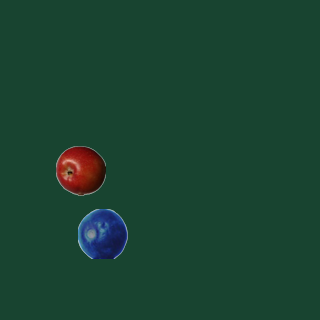Apple Braeburn: (55, 145, 105, 195)
Huckleberry: (77, 208, 127, 258)
